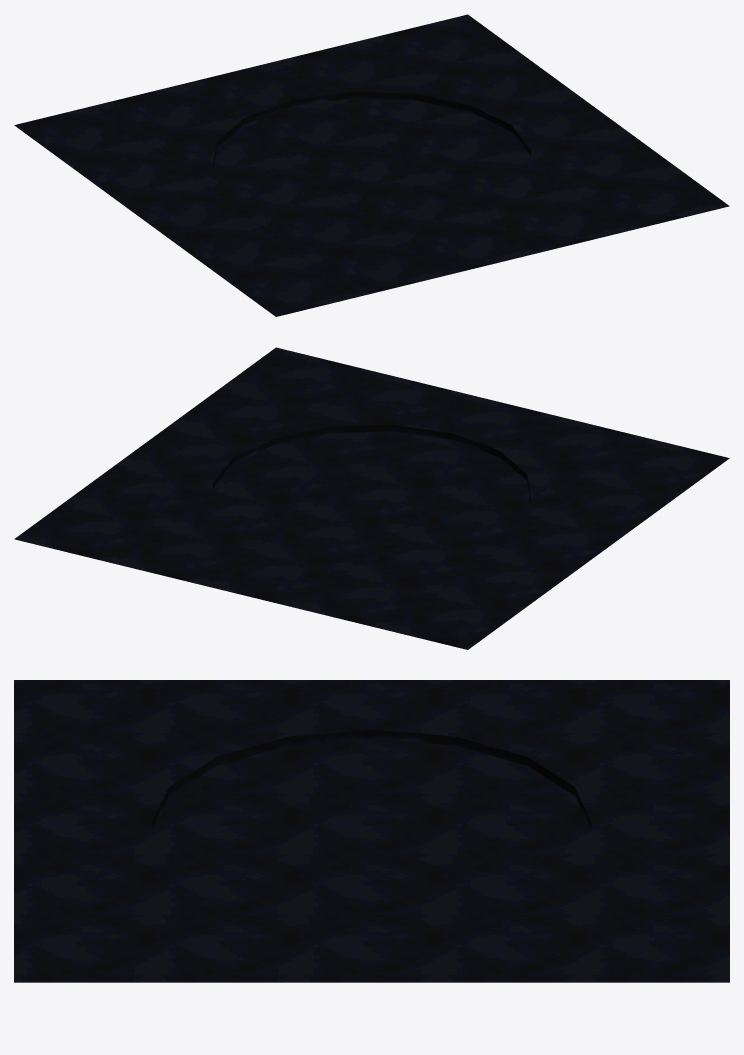
The model's file is INST_OH_SKY_BOX.fbx.
3 views of the same model, one above another, from view 1: azimuth 30°, elevation 25°; view 2: azimuth 150°, elevation 25°; view 3: azimuth 270°, elevation 25° (orthographic). The views are drawn at different scales.
Parts seen in each view (by area): view 1: INST_OH_SKY_BOX; view 2: INST_OH_SKY_BOX; view 3: INST_OH_SKY_BOX.
Part boxes in pixels (left/top/right/bottom): INST_OH_SKY_BOX: left=14, top=14, right=729, bottom=316; INST_OH_SKY_BOX: left=14, top=347, right=729, bottom=649; INST_OH_SKY_BOX: left=14, top=680, right=729, bottom=982.
Size of the model in its own units: 200989 by 38964 by 200989.
5 materials, 5 textured.
